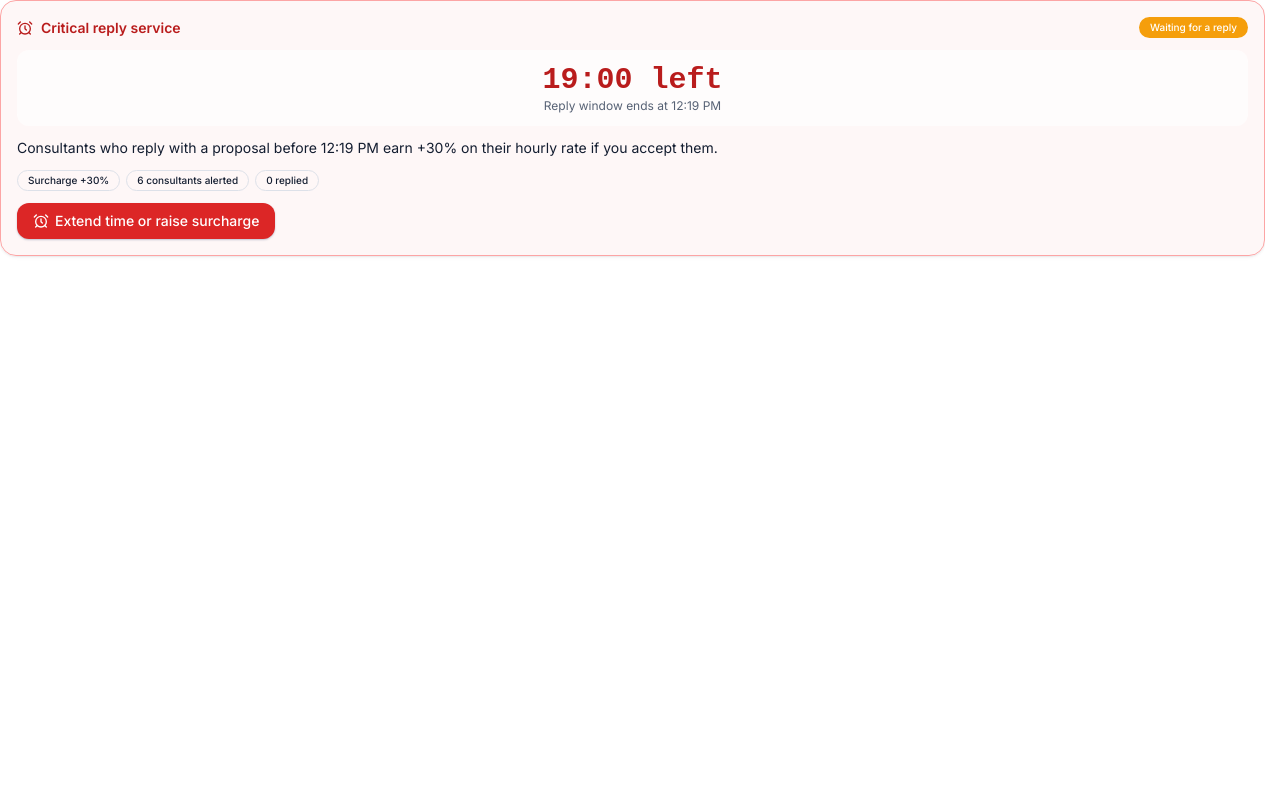
CriticalRequestPanel › lets the owner extend the time or raise the surcharge
Click the button with test id "critical-extend-button": (146, 221) [17,203,275,239]
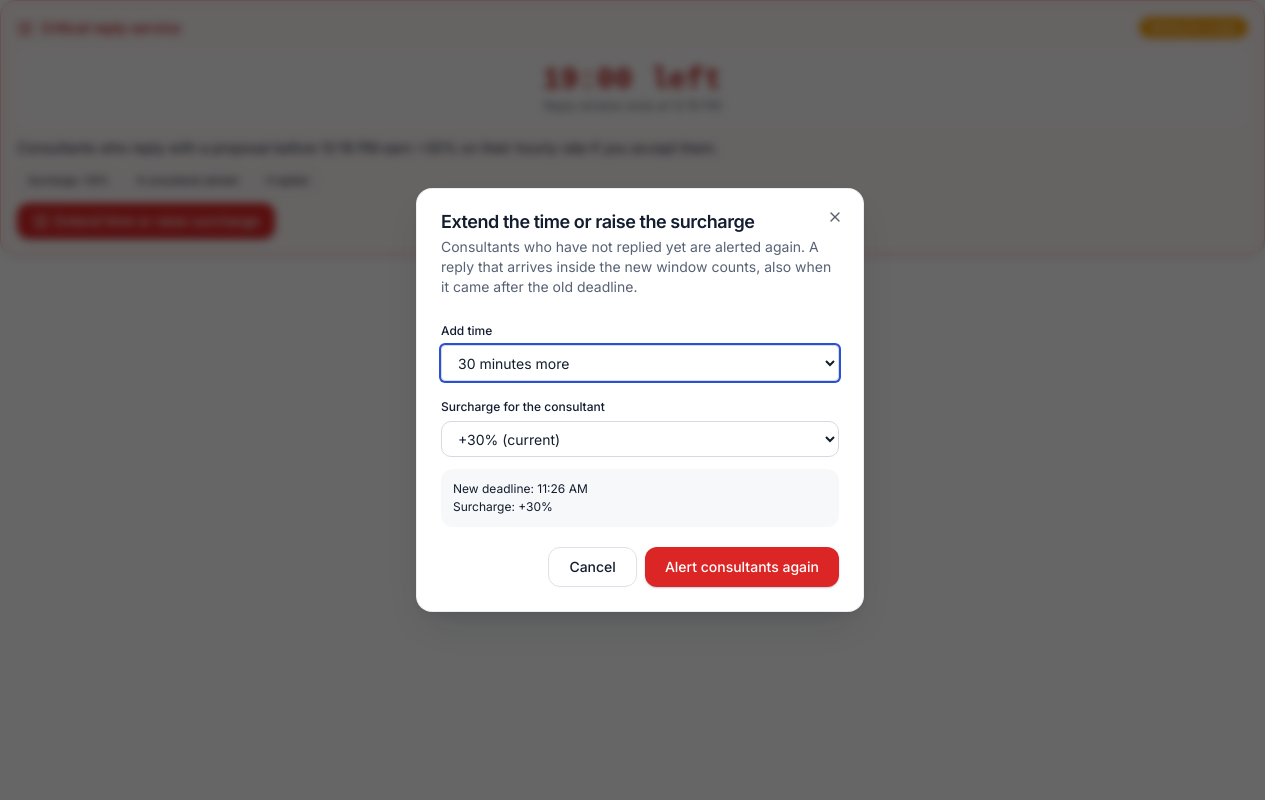
Result: the heading "Extend the time or raise the surcharge" is shown at [441,211,754,232]
